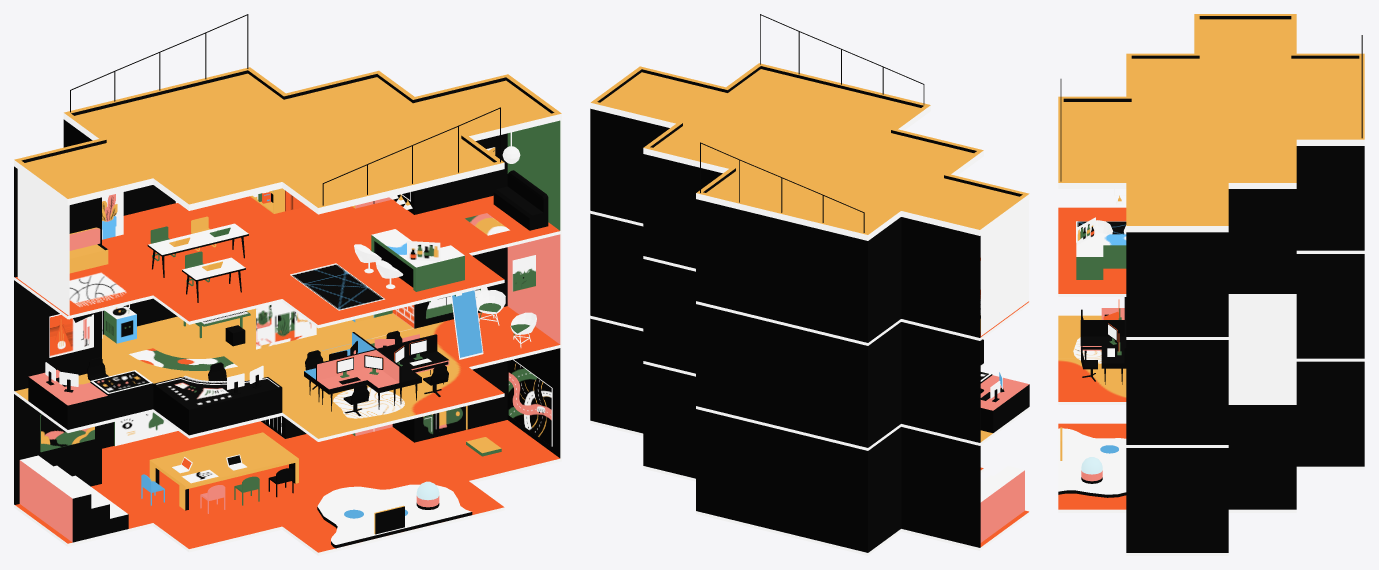
The picture shows the model from 3 angles, left to right: view 1: azimuth 30°, elevation 25°; view 2: azimuth 150°, elevation 25°; view 3: azimuth 270°, elevation 25°; orthographic projection. The views are drawn at different scales.
Parts seen in each view (by area): view 1: building, galss, step, desk, bigstage, meeting_table, floor, bar_table, screen, table_9, carpet, sofa_2 (+19 smaller); view 2: building, galss, step, floor; view 3: building, bigstage, bar_table, table_9_1, container.
Part boxes in pixels (<box>): building: <box>14,14,561,555</box>; galss: <box>17,169,69,319</box>; step: <box>19,455,128,542</box>; desk: <box>153,375,282,435</box>; bigstage: <box>317,484,472,548</box>; meeting_table: <box>149,432,298,510</box>; floor: <box>28,369,153,429</box>; bar_table: <box>371,229,464,291</box>; screen: <box>508,359,552,446</box>; table_9: <box>316,349,400,411</box>; carpet: <box>290,263,384,310</box>; sofa_2: <box>493,170,548,230</box>; building: <box>590,14,1029,555</box>; galss: <box>981,200,1028,335</box>; step: <box>924,466,1024,546</box>; floor: <box>980,375,1029,432</box>; building: <box>1058,14,1364,555</box>; bigstage: <box>1058,428,1126,497</box>; bar_table: <box>1076,234,1126,279</box>; table_9_1: <box>1080,320,1125,384</box>; container: <box>1081,457,1102,483</box>.
Size of the model in its own units: 1475 by 1238 by 900.
